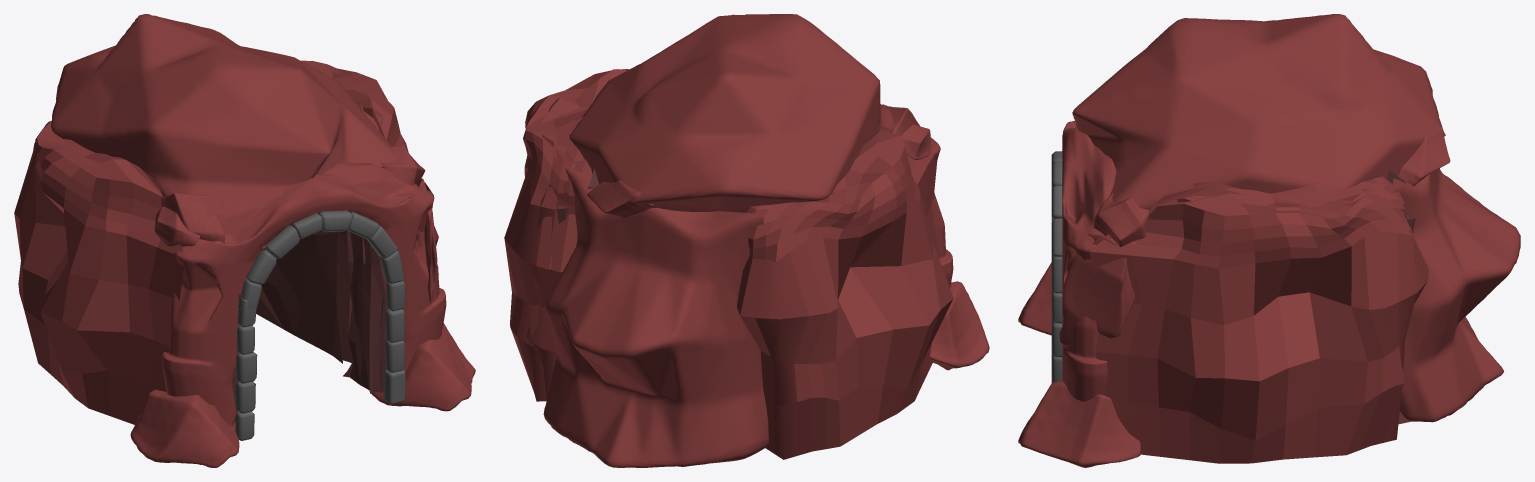
The model's file is Cave1.fbx.
3 renders of one model, left to right at view 1: azimuth 30°, elevation 25°; view 2: azimuth 150°, elevation 25°; view 3: azimuth 270°, elevation 25°, orthographic. The views are drawn at different scales.
Visible parts, largest first — view 1: Casa; view 2: Casa; view 3: Casa.
Boxes of the visible parts, x1,y1,x2,y2 form: Casa: (14,14,475,467); Casa: (504,14,989,467); Casa: (1018,14,1520,467).
Size of the model in its own units: 7.28 by 6.1 by 7.86.
